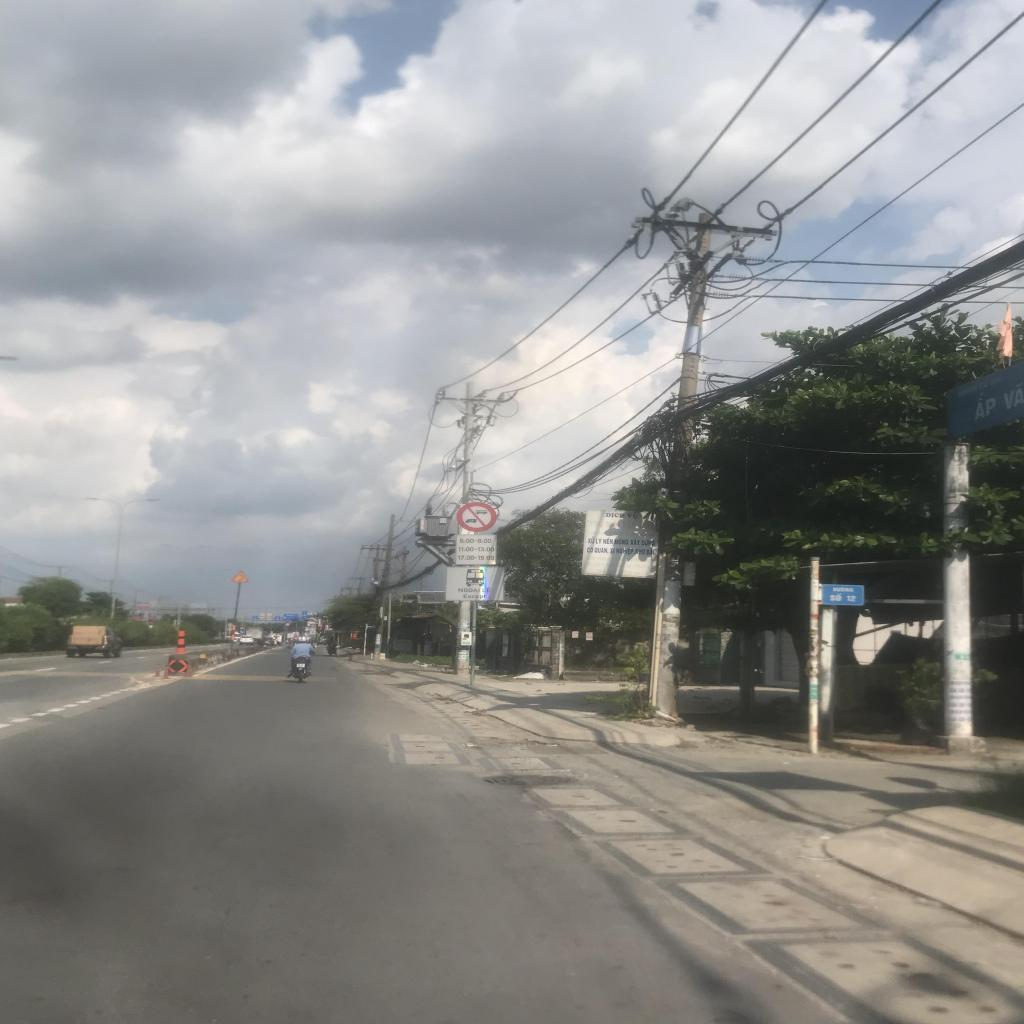cam_o_to_tai_va_xe_khach: (454, 503, 497, 533)
cho_ngoat_nguy_hiem_ben_trai: (229, 570, 250, 584)
khac: (445, 566, 506, 600), (454, 534, 497, 565)
